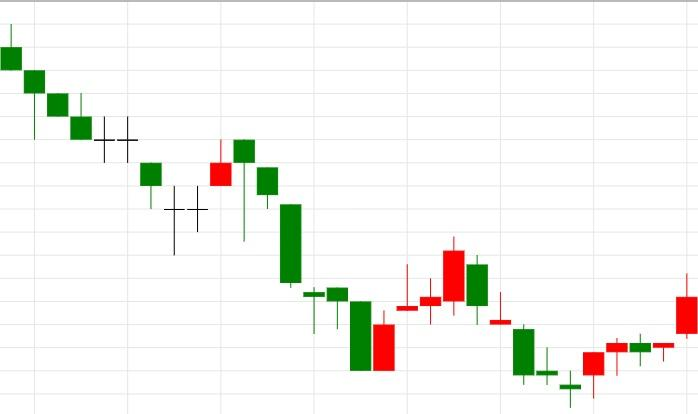hanging_man_fall: (164, 140, 255, 256)
three_black_crows_fall: (164, 139, 302, 288)
